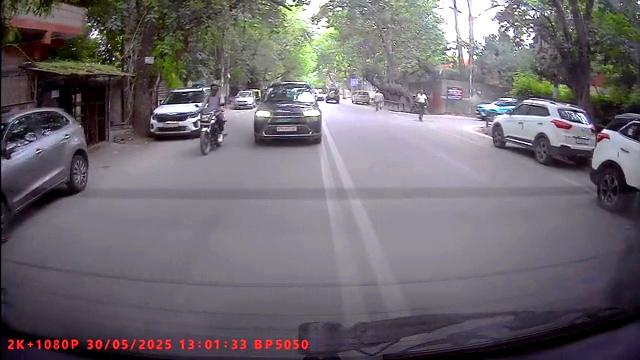motorcycle_with_helmet: (196, 80, 229, 157)
